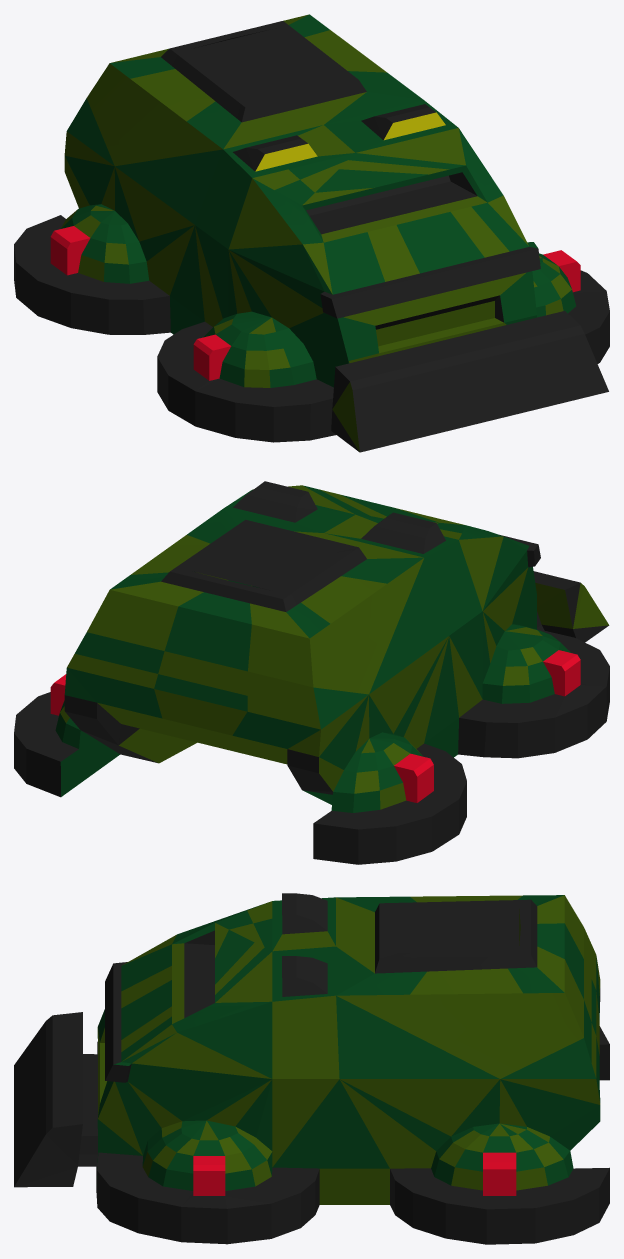
Rendered from Striker.fbx.
The picture shows the model from 3 angles, top to bottom: view 1: azimuth 30°, elevation 25°; view 2: azimuth 150°, elevation 25°; view 3: azimuth 270°, elevation 25°; orthographic projection.
Visible parts, largest first — view 1: Buggy_Geo; view 2: Buggy_Geo; view 3: Buggy_Geo.
Boxes of the visible parts, box(x1,y1,x2,y2) form: Buggy_Geo: box(14, 14, 609, 452); Buggy_Geo: box(14, 481, 609, 864); Buggy_Geo: box(14, 893, 609, 1244).
Bounding box in the file's own units: 295 × 144 × 361.
